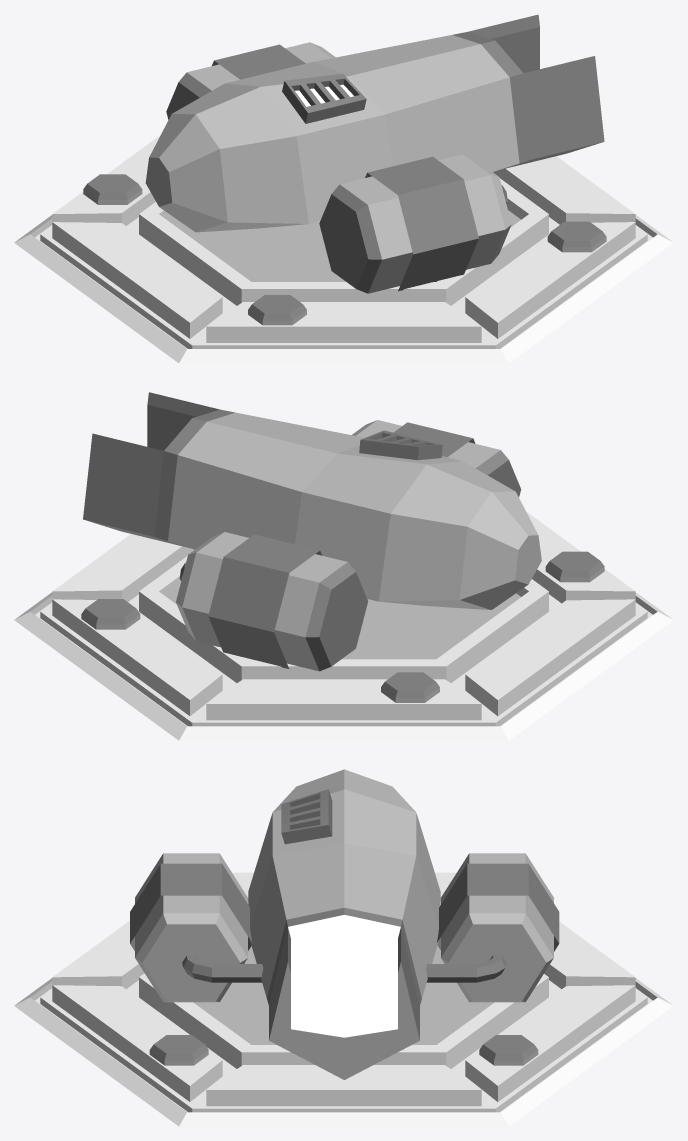
File: Engine.fbx
3 views of the same model, one above another, from view 1: azimuth 30°, elevation 25°; view 2: azimuth 150°, elevation 25°; view 3: azimuth 270°, elevation 25° (orthographic).
Parts seen in each view (by area): view 1: Engine; view 2: Engine; view 3: Engine.
Part boxes in pixels (<box>): Engine: <box>14,14,673,363</box>; Engine: <box>14,392,673,740</box>; Engine: <box>14,769,673,1126</box>.
Bounding box in the file's own units: 214 × 77.71 × 247.
